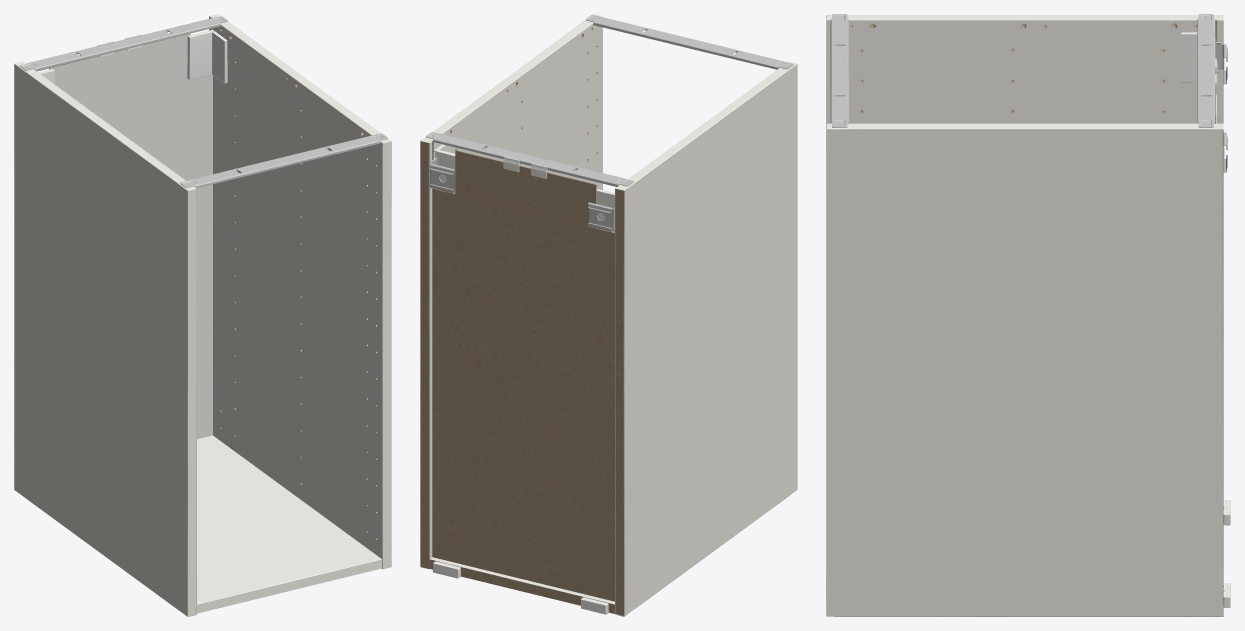
The model's file is METOD Rangement blanc 40x60x80 cm.glb.
3 renders of one model, left to right at view 1: azimuth 30°, elevation 25°; view 2: azimuth 150°, elevation 25°; view 3: azimuth 270°, elevation 25°, orthographic. The views are drawn at different scales.
Visible parts, largest first — view 1: model; view 2: model; view 3: model.
Part boxes in pixels (<box>): model: <box>14,14,391,616</box>; model: <box>420,14,797,616</box>; model: <box>826,14,1230,616</box>.
Size of the model in its own units: 0.4 by 0.802 by 0.5999.
1 material, 1 textured.
